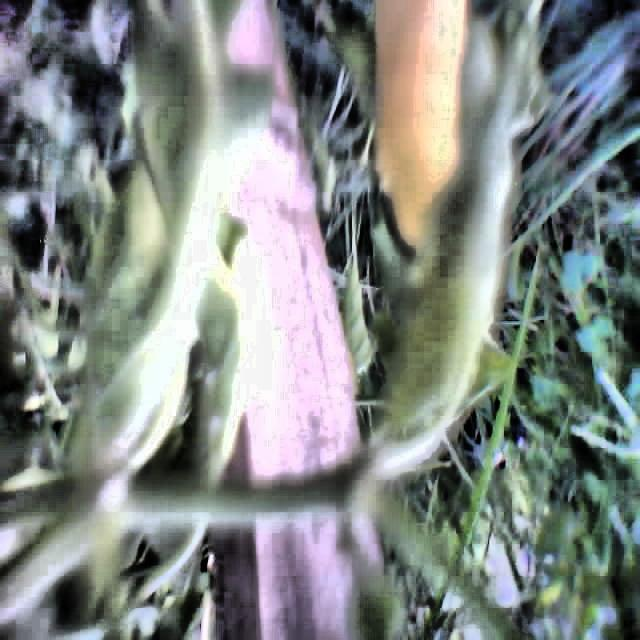Cabai: (368, 0, 468, 215)
